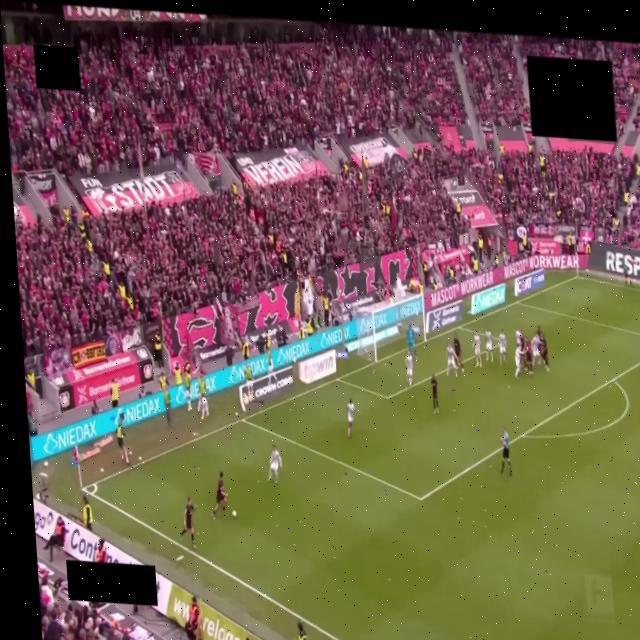ball: (232, 510, 237, 517)
player: (181, 498, 196, 548), (212, 472, 227, 519), (268, 445, 282, 482), (406, 324, 417, 360), (446, 344, 457, 378), (454, 336, 464, 371), (539, 334, 548, 371), (524, 339, 533, 375), (431, 375, 439, 413), (347, 399, 355, 437), (531, 334, 541, 364), (267, 350, 276, 383), (473, 332, 481, 367), (515, 345, 523, 378), (485, 329, 493, 361), (406, 350, 413, 386), (499, 330, 506, 363), (515, 329, 524, 348)
referee: (501, 428, 512, 476)
